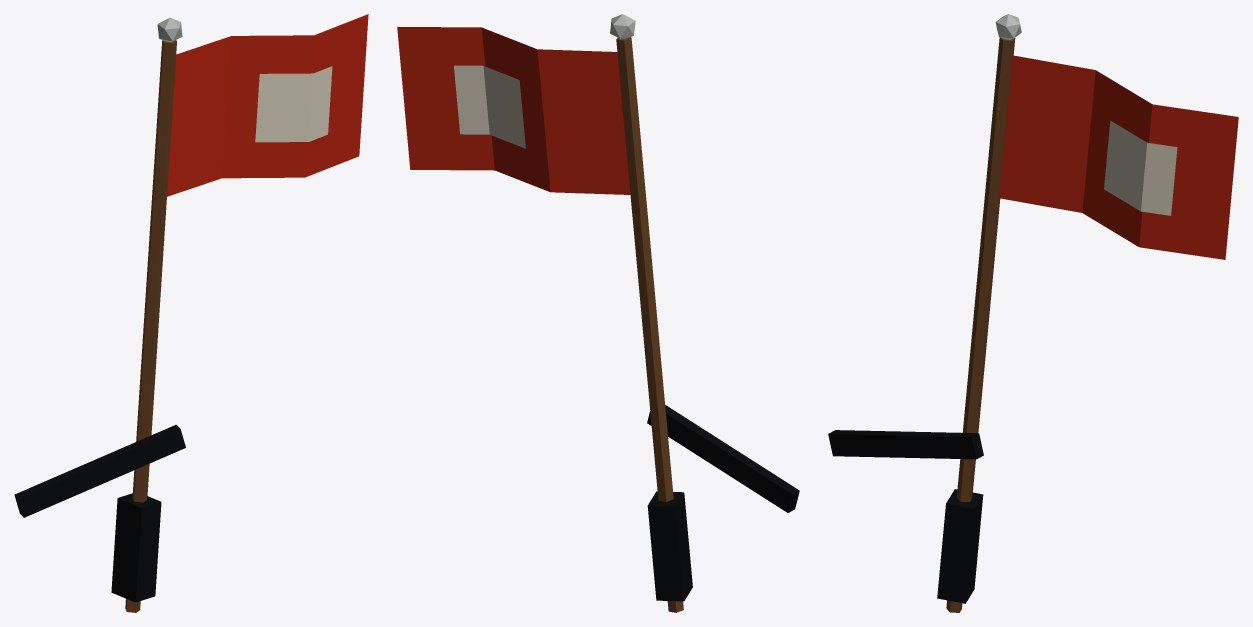
File: flag.glb
The picture shows the model from 3 angles, left to right: view 1: azimuth 30°, elevation 25°; view 2: azimuth 150°, elevation 25°; view 3: azimuth 330°, elevation 25°; orthographic projection. The views are drawn at different scales.
Visible parts, largest first — view 1: flag; view 2: flag; view 3: flag.
Part boxes in pixels (box(x1,y1,x2,y2)): flag: box(14, 14, 368, 612); flag: box(397, 14, 799, 612); flag: box(828, 14, 1238, 612).
Size of the model in its own units: 0.7591 by 1.13 by 0.1214.
1 material, 1 textured.
